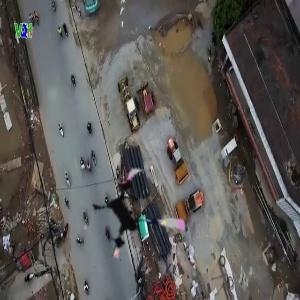drone: (86, 165, 191, 270)
